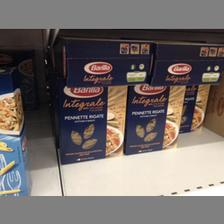Nudeln: (55, 76, 126, 164), (124, 84, 186, 156)
